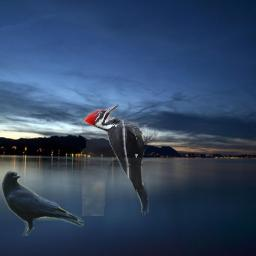Crow: (2, 169, 84, 236)
Woodpecker: (82, 104, 158, 216)
